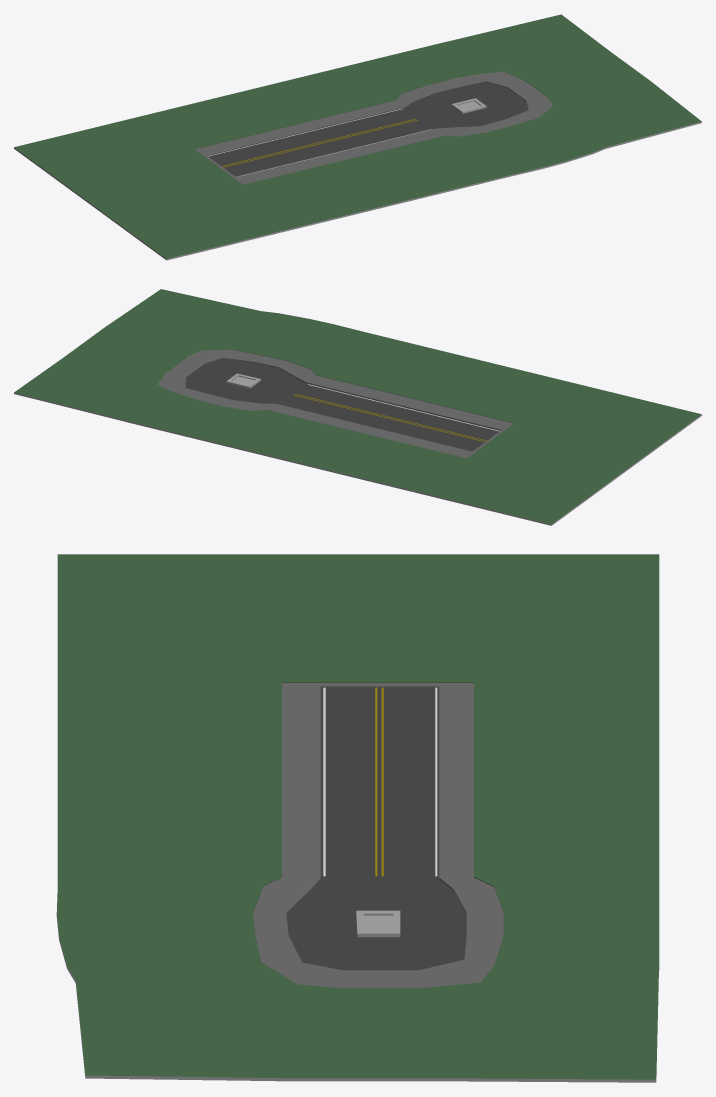
File: SM_Ground.fbx
3 renders of one model, top to bottom at view 1: azimuth 30°, elevation 25°; view 2: azimuth 150°, elevation 25°; view 3: azimuth 270°, elevation 25°, orthographic. The views are drawn at different scales.
Visible parts, largest first — view 1: Ground; view 2: Ground; view 3: Ground.
Part boxes in pixels (x1=…): Ground: x1=14, y1=14, x2=701, y2=260; Ground: x1=14, y1=289, x2=701, y2=525; Ground: x1=56, y1=554, x2=659, y2=1082.
Bounding box in the file's own units: 13580 × 50 × 6581.
